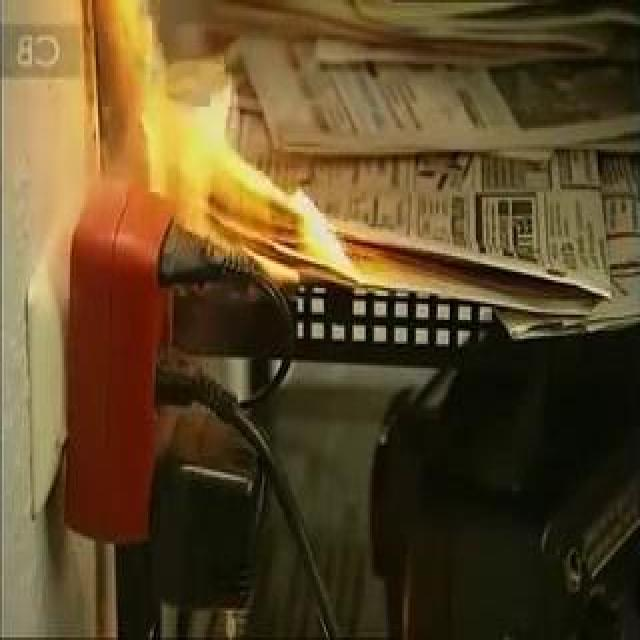Fire: (82, 3, 416, 325)
